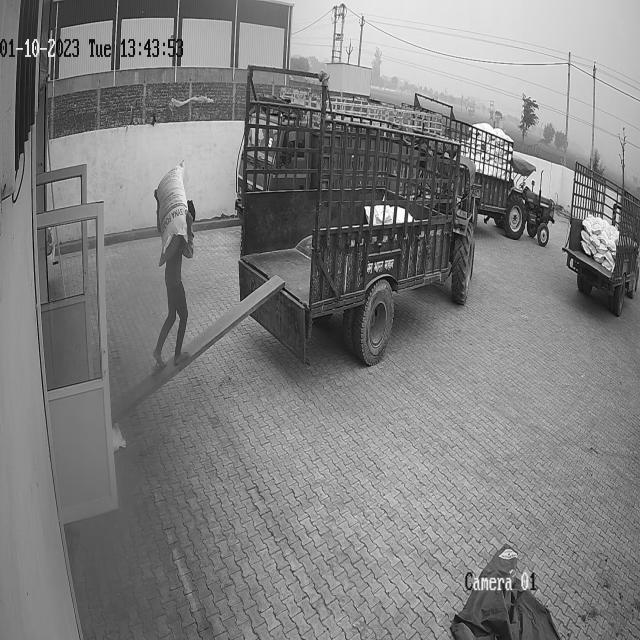sack: (155, 161, 188, 254)
